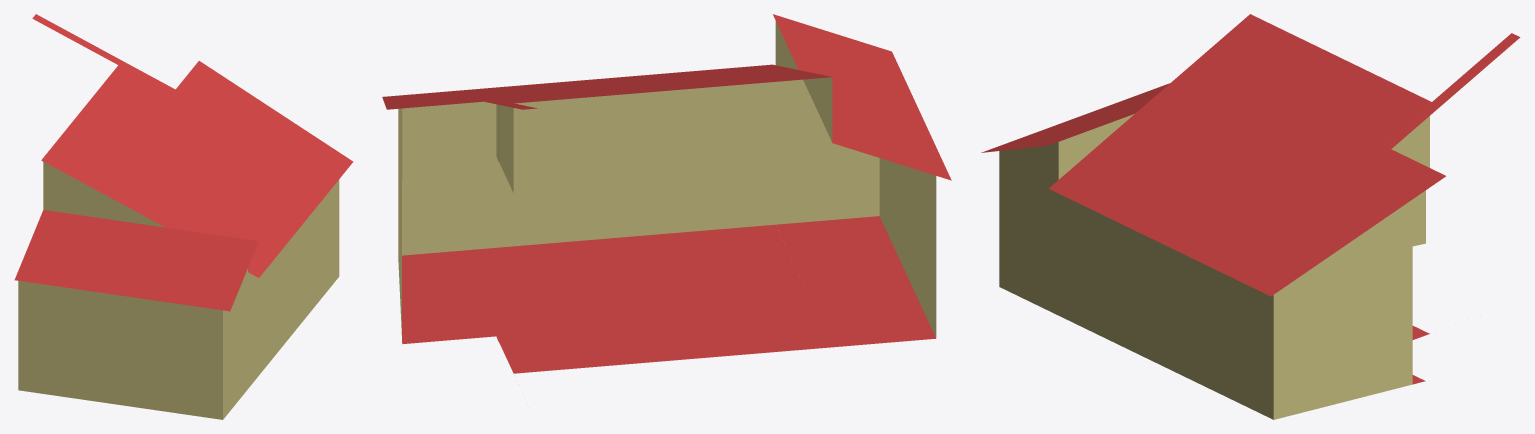
3 views of the same model, side by side, from view 1: azimuth 30°, elevation 25°; view 2: azimuth 150°, elevation 25°; view 3: azimuth 270°, elevation 25° (orthographic). The views are drawn at different scales.
Size of the model in its own units: 18.9 by 20.11 by 11.12.
